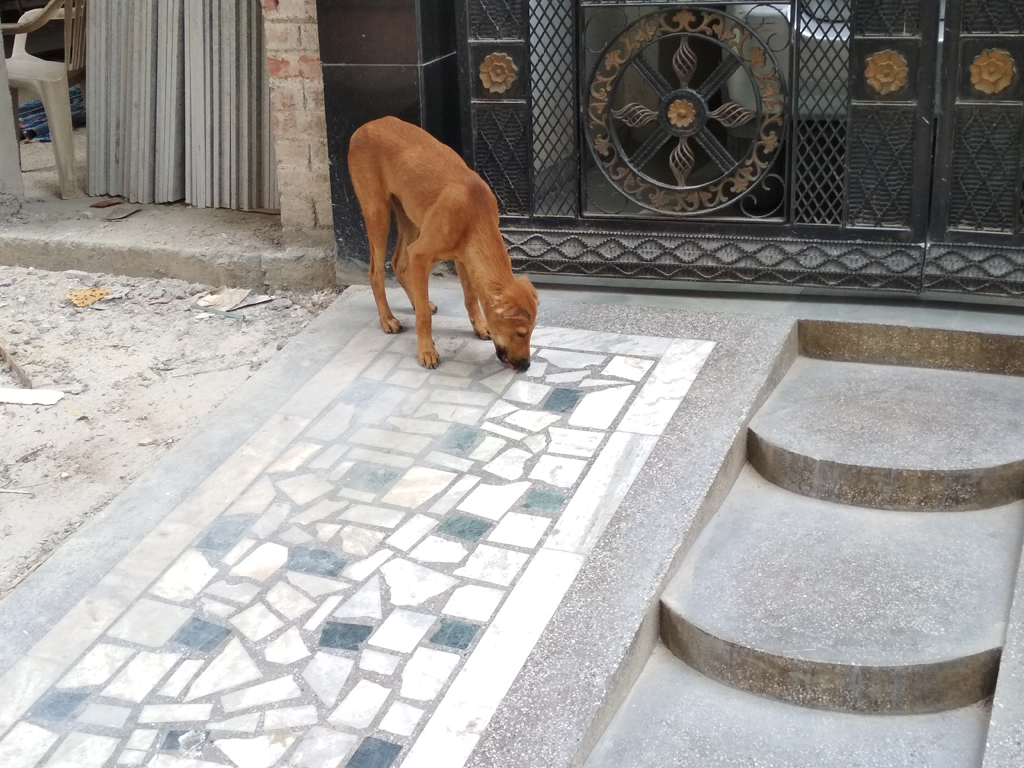dog: (347, 115, 538, 372)
